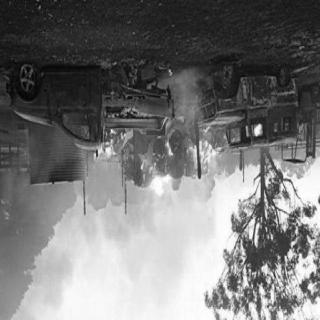Fire: (95, 124, 227, 203)
